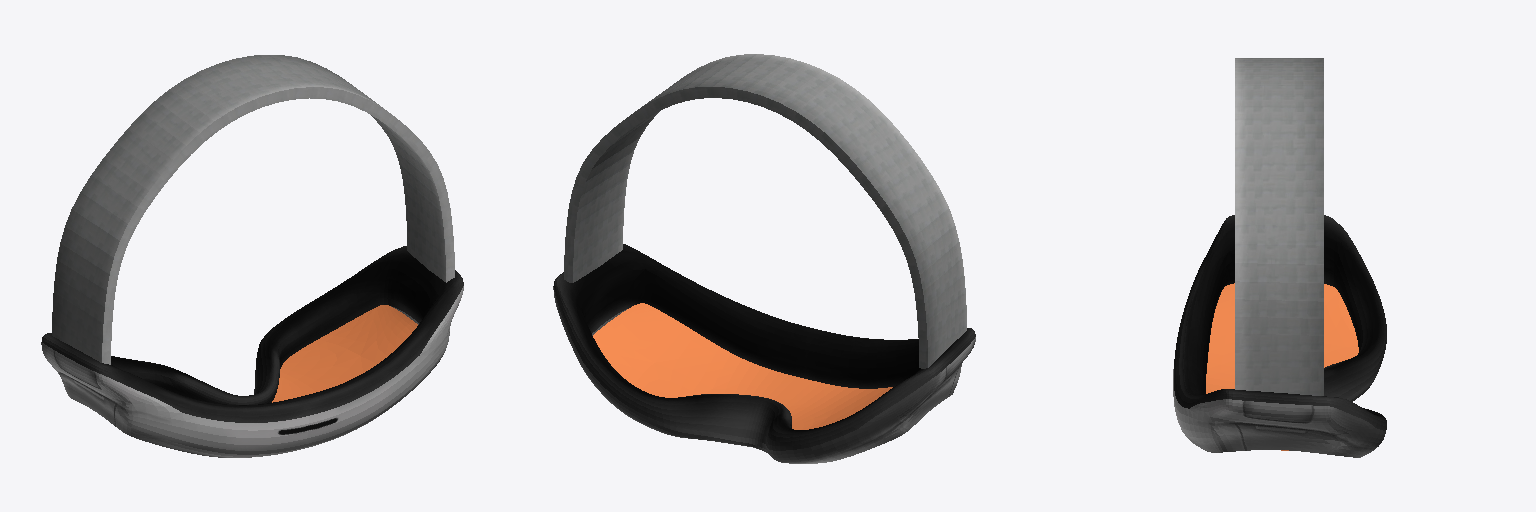
3 views of the same model, side by side, from view 1: azimuth 30°, elevation 25°; view 2: azimuth 150°, elevation 25°; view 3: azimuth 270°, elevation 25° (orthographic).
Parts seen in each view (by area): view 1: 10530_snov_skiing_goggles_v01; view 2: 10530_snov_skiing_goggles_v01; view 3: 10530_snov_skiing_goggles_v01.
Part boxes in pixels (bbox=[...]): 10530_snov_skiing_goggles_v01: bbox=[41, 55, 463, 457]; 10530_snov_skiing_goggles_v01: bbox=[553, 54, 975, 463]; 10530_snov_skiing_goggles_v01: bbox=[1173, 58, 1386, 457].
Bounding box in the file's own units: 31.93 × 28.97 × 15.54.
Materials: 2 (1 with a texture image).